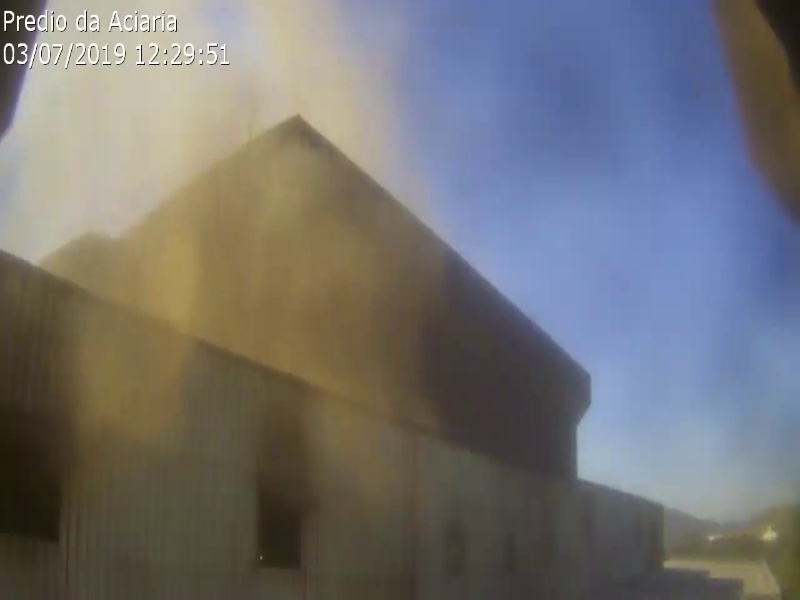Pessimo: (41, 68, 460, 503)
